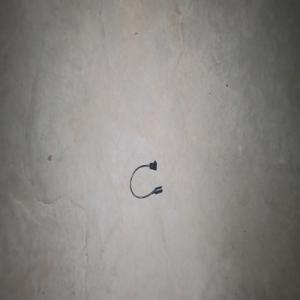Wire: (129, 160, 163, 198)
